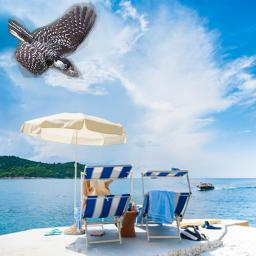Woodpecker: (8, 2, 100, 80)
